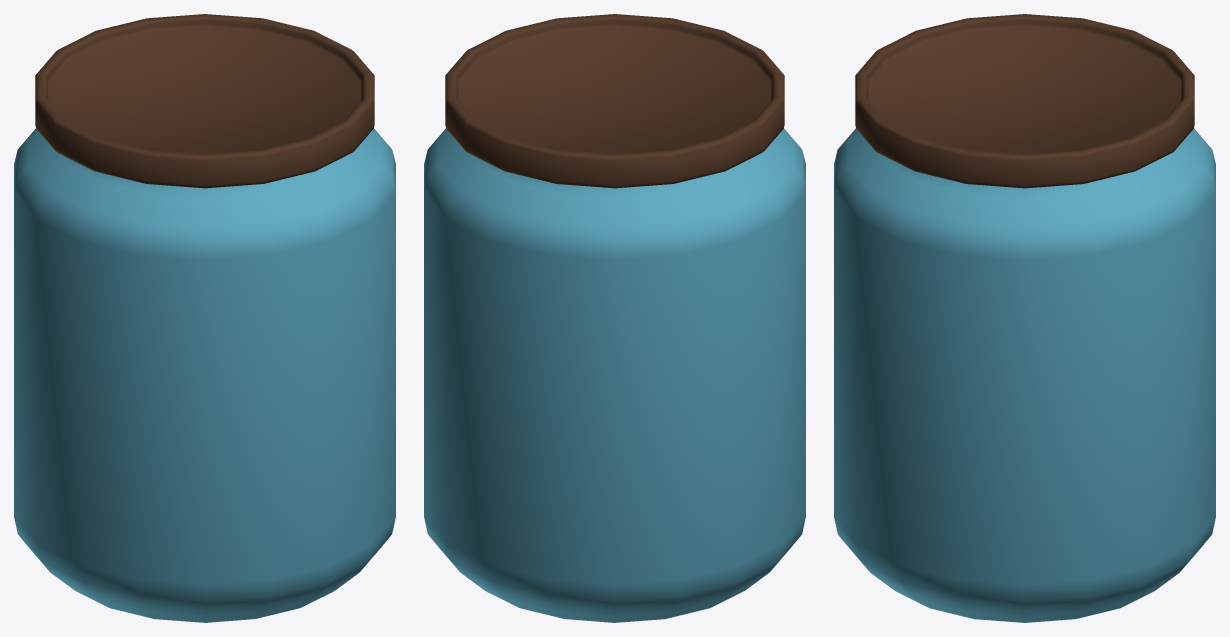
The model's file is pote.FBX.
The picture shows the model from 3 angles, left to right: view 1: azimuth 30°, elevation 25°; view 2: azimuth 150°, elevation 25°; view 3: azimuth 270°, elevation 25°; orthographic projection.
Visible parts, largest first — view 1: Cylinder005; view 2: Cylinder005; view 3: Cylinder005.
Part boxes in pixels (box(x1,y1,x2,y2)): Cylinder005: box(14, 14, 395, 622); Cylinder005: box(424, 14, 805, 622); Cylinder005: box(834, 14, 1215, 622).
Bounding box in the file's own units: 0.169 × 0.2284 × 0.1664.
